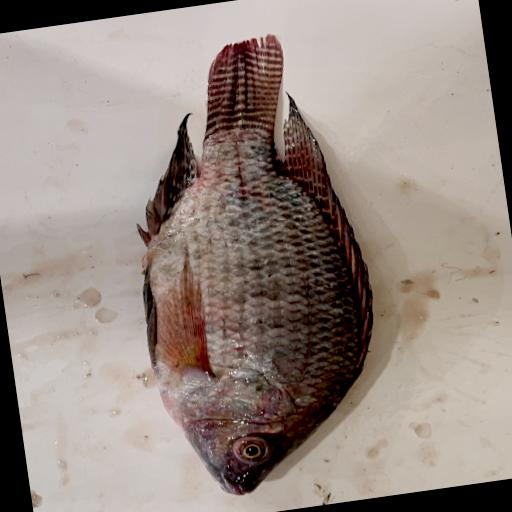Tilapia: (107, 24, 399, 507)
